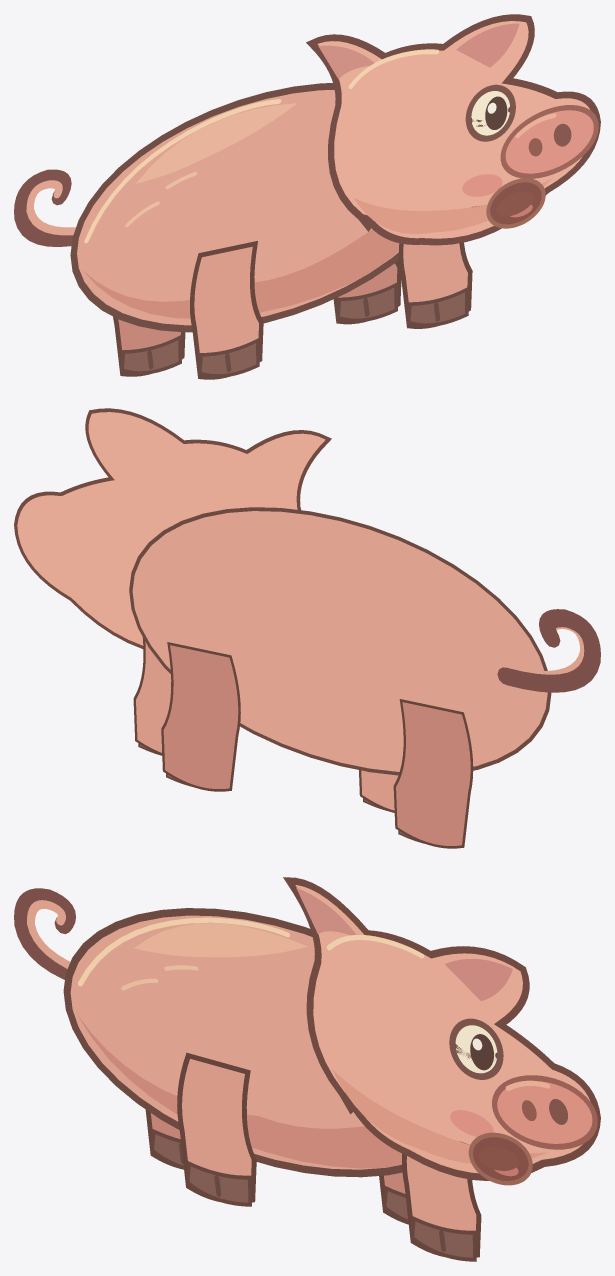
File: purcel.glb
3 views of the same model, one above another, from view 1: azimuth 30°, elevation 25°; view 2: azimuth 150°, elevation 25°; view 3: azimuth 330°, elevation 25° (orthographic). The views are drawn at different scales.
Visible parts, largest first — view 1: Grăsuțu · trunchi, Chipul lui Grăsuțu, Picior și copită.002, Picior și copită.003, Picior și copită, Codiță, Picior și copită.001, Grăsuțu · ochi deschis, Grăsuțu · gură căscată, Grăsuțu · gură la troacă; view 2: Grăsuțu · trunchi, Chipul lui Grăsuțu, Picior și copită, Picior și copită.001, Codiță, Picior și copită.003, Picior și copită.002; view 3: Grăsuțu · trunchi, Chipul lui Grăsuțu, Picior și copită.002, Picior și copită.003, Codiță, Grăsuțu · ochi deschis, Grăsuțu · gură căscată, Picior și copită, Picior și copită.001, Grăsuțu · gură la troacă.
Boxes of the visible parts, x1=… form: Grăsuțu · trunchi: x1=70, y1=83, x2=399, y2=332; Chipul lui Grăsuțu: x1=306, y1=14, x2=600, y2=245; Picior și copită.002: x1=190, y1=241, x2=263, y2=379; Picior și copită.003: x1=398, y1=242, x2=472, y2=328; Picior și copită: x1=113, y1=316, x2=185, y2=376; Codiță: x1=14, y1=169, x2=75, y2=246; Picior și copită.001: x1=333, y1=260, x2=401, y2=324; Grăsuțu · ochi deschis: x1=465, y1=84, x2=515, y2=141; Grăsuțu · gură căscată: x1=486, y1=178, x2=545, y2=228; Grăsuțu · gură la troacă: x1=496, y1=191, x2=533, y2=216; Grăsuțu · trunchi: x1=129, y1=507, x2=551, y2=775; Chipul lui Grăsuțu: x1=14, y1=408, x2=331, y2=648; Picior și copită: x1=393, y1=699, x2=473, y2=848; Picior și copită.001: x1=161, y1=642, x2=240, y2=791; Codiță: x1=497, y1=609, x2=600, y2=692; Picior și copită.003: x1=133, y1=637, x2=171, y2=755; Picior și copită.002: x1=359, y1=770, x2=397, y2=812; Grăsuțu · trunchi: x1=63, y1=908, x2=402, y2=1177; Chipul lui Grăsuțu: x1=283, y1=877, x2=600, y2=1180; Picior și copită.002: x1=177, y1=1052, x2=256, y2=1206; Picior și copită.003: x1=402, y1=1153, x2=481, y2=1261; Codiță: x1=14, y1=888, x2=75, y2=979; Grăsuțu · ochi deschis: x1=449, y1=1018, x2=503, y2=1079; Grăsuțu · gură căscată: x1=468, y1=1132, x2=532, y2=1185; Picior și copită: x1=145, y1=1109, x2=183, y2=1169; Picior și copită.001: x1=379, y1=1172, x2=408, y2=1224; Grăsuțu · gură la troacă: x1=478, y1=1147, x2=519, y2=1170.
Size of the model in its own units: 3.17 by 1.75 by 0.349.
